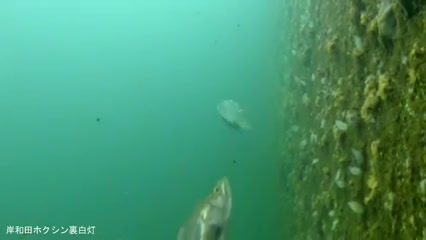smallfish: (210, 91, 258, 140)
